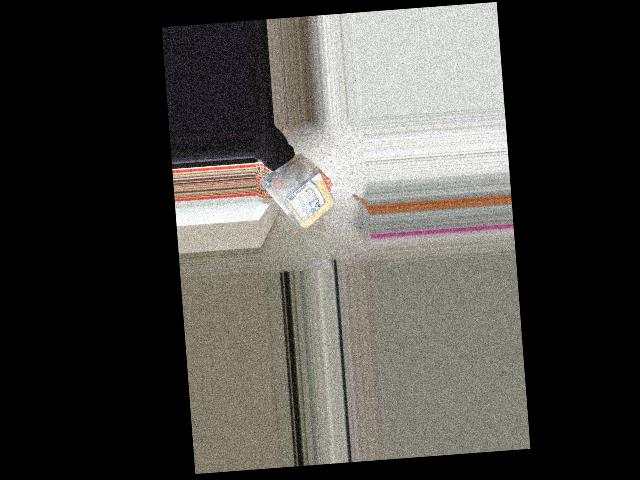cheese: (287, 162, 329, 230)
